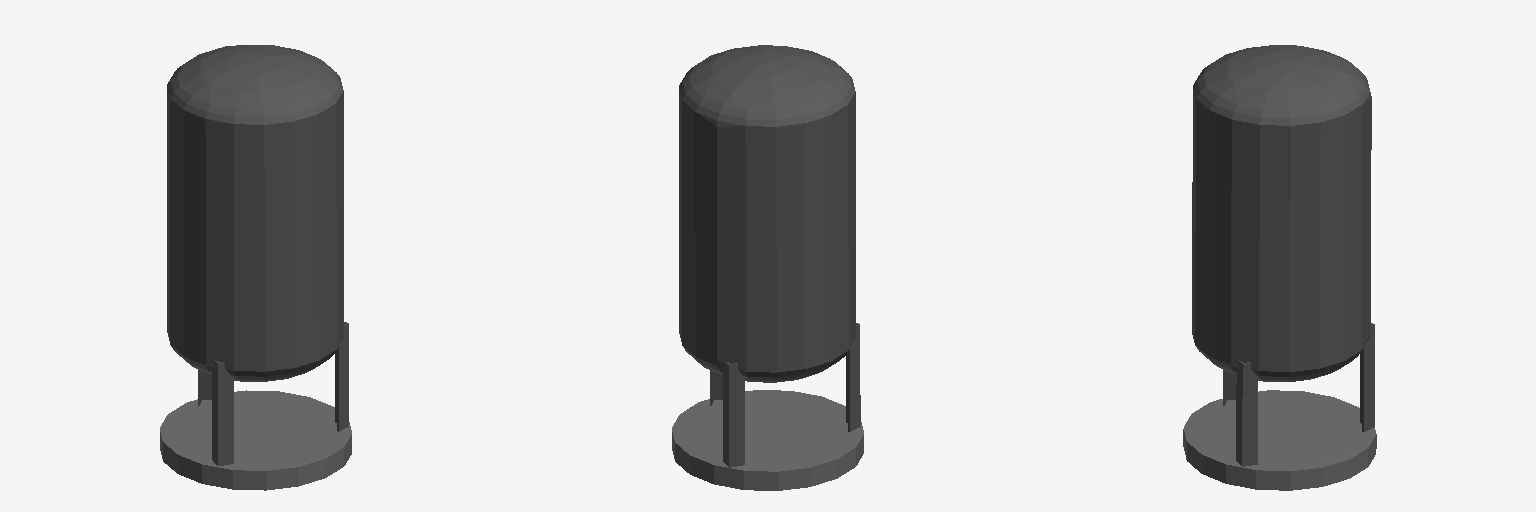
File: 0406lishiguan02.obj
3 renders of one model, left to right at view 1: azimuth 30°, elevation 25°; view 2: azimuth 150°, elevation 25°; view 3: azimuth 270°, elevation 25°, orthographic.
Visible parts, largest first — view 1: EQUIP_x_G_5_4; view 2: EQUIP_x_G_5_4; view 3: EQUIP_x_G_5_4.
Part boxes in pixels (left/top/right/bottom): EQUIP_x_G_5_4: left=160, top=45, right=351, bottom=490; EQUIP_x_G_5_4: left=672, top=45, right=863, bottom=490; EQUIP_x_G_5_4: left=1183, top=45, right=1376, bottom=490.
Size of the model in its own units: 0.9156 by 2.05 by 0.9208.